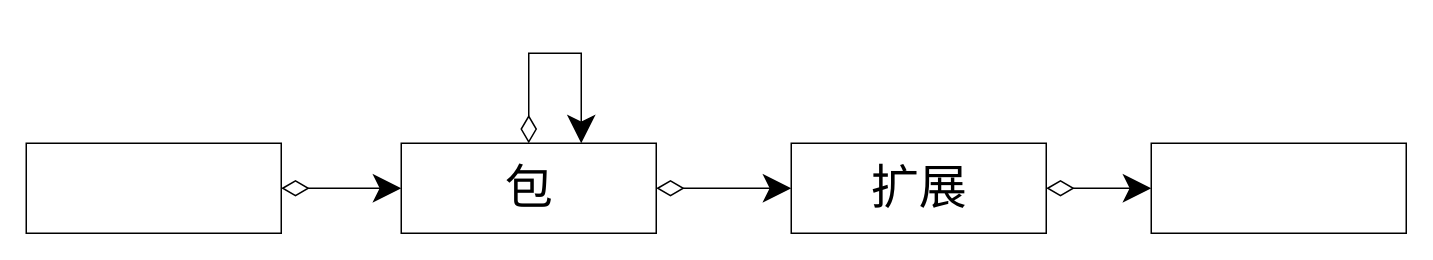
The diagram is 1433 pixels wide and 260 high, and some of its shapes have lost their labels. Each missing label, with the box of its shape:
编辑器: (25, 142, 281, 233)
贡献: (1150, 142, 1406, 233)
